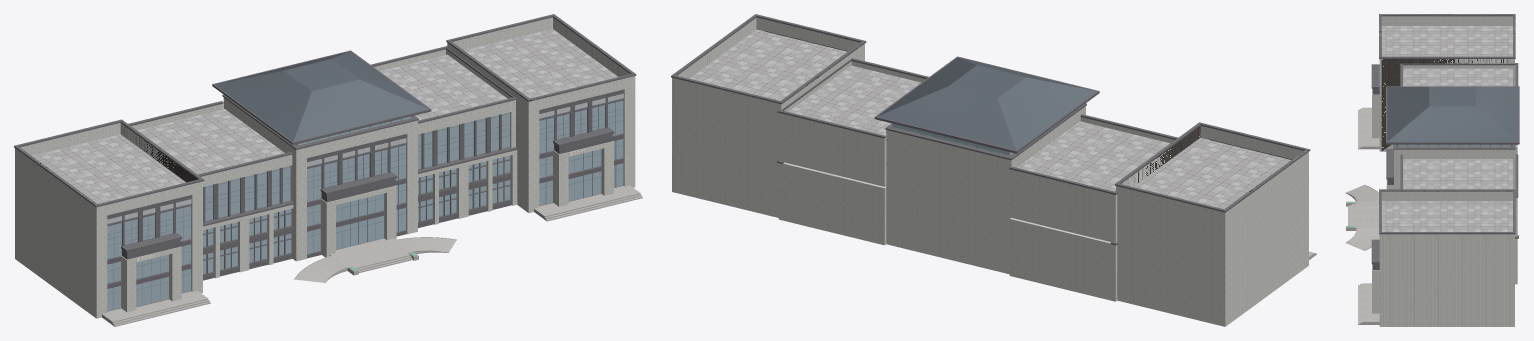
The model's file is 办公楼37.gltf.
3 renders of one model, left to right at view 1: azimuth 30°, elevation 25°; view 2: azimuth 150°, elevation 25°; view 3: azimuth 270°, elevation 25°, orthographic. The views are drawn at different scales.
Visible parts, largest first — view 1: 办公楼37; view 2: 办公楼37; view 3: 办公楼37.
Part boxes in pixels (x1,y1,x2,y2): 办公楼37: [14, 14, 642, 326]; 办公楼37: [671, 14, 1316, 326]; 办公楼37: [1345, 14, 1519, 326].
Bounding box in the file's own units: 76.38 × 19.71 × 25.73.
Materials: 9 (5 with a texture image).
